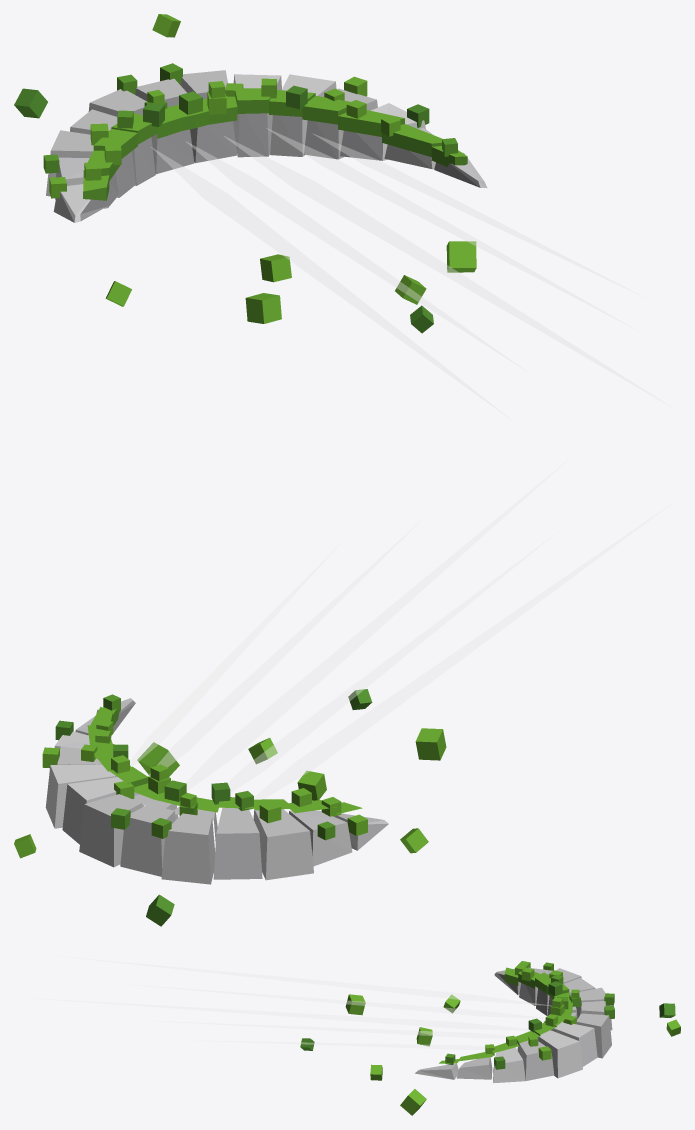
File: BrambleShivsSlash.glb
3 views of the same model, one above another, from view 1: azimuth 30°, elevation 25°; view 2: azimuth 150°, elevation 25°; view 3: azimuth 270°, elevation 25° (orthographic). The views are drawn at different scales.
Visible parts, largest first — view 1: Blade, Trail, Moss, Bits; view 2: Blade, Trail, Moss, Bits; view 3: Blade, Trail, Moss, Bits.
Boxes of the visible parts, x1,y1,x2,y2 form: Blade: (46,70,487,222); Trail: (151,128,672,418); Moss: (43,63,467,200); Bits: (14,14,476,333); Blade: (45,698,388,884); Trail: (130,458,670,799); Moss: (42,694,367,840); Bits: (14,689,446,926); Blade: (415,967,612,1083); Trail: (45,957,550,1049); Moss: (439,961,614,1069); Bits: (300,994,680,1115).
Bounding box in the file's own units: 1.54 × 0.5737 × 4.15.
